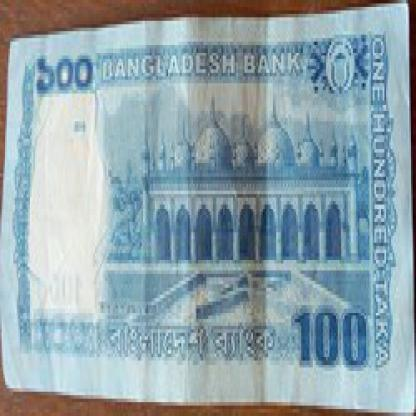one hundred taka: (293, 302, 371, 374), (30, 52, 95, 97)
